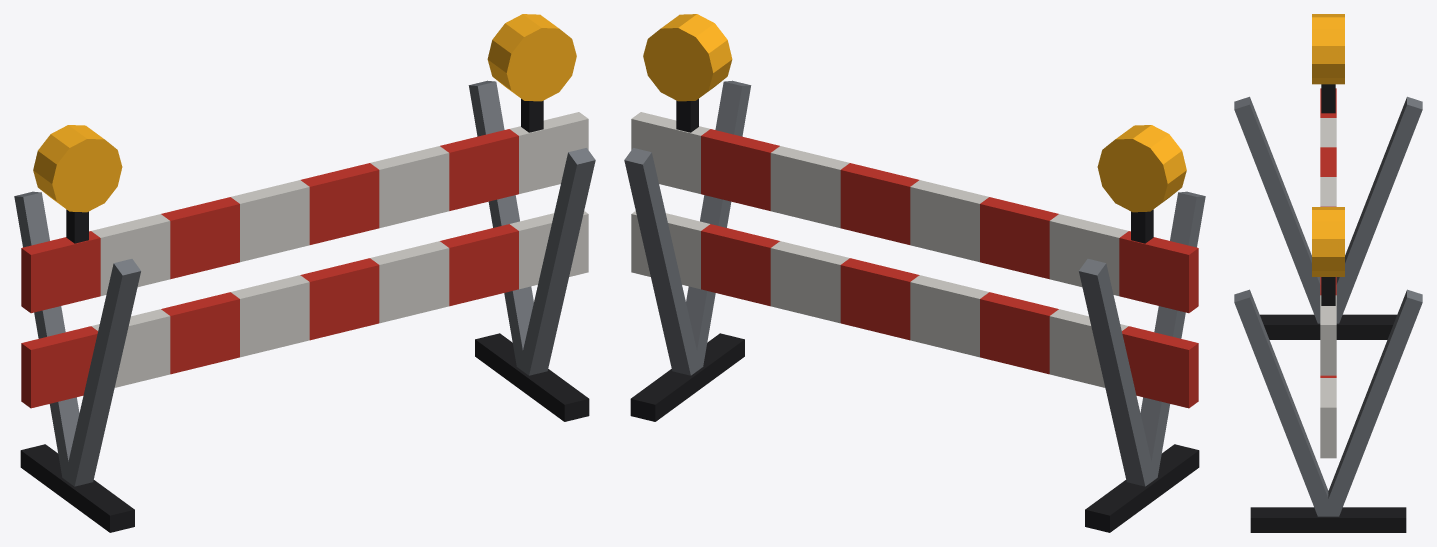
The model's file is obstacle_barrier.glb.
3 views of the same model, side by side, from view 1: azimuth 30°, elevation 25°; view 2: azimuth 150°, elevation 25°; view 3: azimuth 270°, elevation 25° (orthographic). The views are drawn at different scales.
Visible parts, largest first — view 1: body; view 2: body; view 3: body.
Boxes of the visible parts, x1,y1,x2,y2 form: body: [14, 14, 595, 532]; body: [624, 14, 1205, 532]; body: [1234, 14, 1422, 532].
Bounding box in the file's own units: 2.7 × 1.7 × 0.909.
